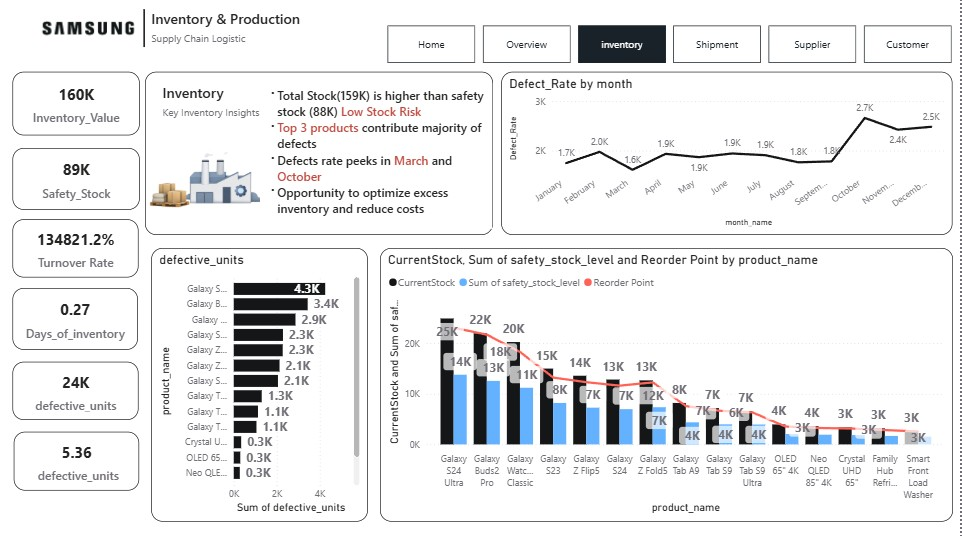

The page's visual inventory and layout, read from the dashboard file:
{"tool":"powerbi","page":{"name":"inventory","canvas":[1280,720],"ordinal":2},"visuals":[{"type":"shape","title":"Inventory & Production","box":[201.7,15.3,235.1,71],"z":0},{"type":"shape","box":[16.9,15.7,351.1,50.7],"z":1000},{"type":"image","box":[0,15.7,235.3,50.7],"z":2000},{"type":"card","fields":{"Values":["Cost_QTS_Suppliers.Turnover Rate"]},"box":[16.7,295,168.3,77.9],"z":3000},{"type":"card","fields":{"Values":["Cost_QTS_Suppliers.Days_of_inventory"]},"box":[16.7,386.8,167,82.1],"z":4000},{"type":"card","fields":{"Values":["Sum(fact_production.defective_units)"]},"box":[16.7,484.2,168.3,77.9],"z":5000},{"type":"card","fields":{"Values":["MeasuresTable.Safety_Stock"]},"box":[16.7,200.3,169.7,82.1],"z":6000},{"type":"card","fields":{"Values":["MeasuresTable.Inventory_Value"]},"box":[16.7,98.8,169.7,84.9],"z":7000},{"type":"card","fields":{"Values":["Avg(fact_production.defective_units)"]},"box":[18.3,578.4,167.5,78.3],"z":8000},{"type":"barChart","title":" defective_units ","fields":{"Y":["Sum(fact_production.defective_units)"],"Category":["dim_product.product_name"]},"box":[201.2,333.8,288.8,365],"z":9000},{"type":"lineClusteredColumnComboChart","fields":{"Category":["dim_product.product_name"],"Y":["MeasuresTable.Inventory_Value","Sum(fact_inventory.safety_stock_level)"],"Y2":["Cost_QTS_Suppliers.Reorder Point"]},"box":[506.2,333.8,763.8,365],"z":10000},{"type":"lineChart","title":"Defect_Rate by month","fields":{"Category":["dim_date.month_name"],"Y":["MeasuresTable.Defect_Rate"]},"box":[668.9,99,601.6,217.7],"z":11000},{"type":"shape","box":[192.5,98.8,463.8,217.5],"z":12000},{"type":"shape","title":"Inventory","box":[216.2,113.8,152.5,55],"z":13000},{"type":"image","box":[183.9,87.8,172.9,300.5],"z":14000},{"type":"pageNavigator","box":[517.3,36.7,753.3,50.1],"z":15000},{"type":"textbox","box":[346.1,113.7,309.4,194.4],"z":16000}]}

Visuals, with their boxes in screenshot pixels (x1, y1, x2, y2), scaled from the page's 1280x720 canvas onto the 962x536 screenshot:
"Inventory & Production" shape: box=[152, 11, 328, 64]
shape: box=[13, 12, 277, 49]
image: box=[0, 12, 177, 49]
card - Cost_QTS_Suppliers.Turnover Rate: box=[13, 220, 139, 278]
card - Cost_QTS_Suppliers.Days_of_inventory: box=[13, 288, 138, 349]
card - Sum(fact_production.defective_units): box=[13, 360, 139, 418]
card - MeasuresTable.Safety_Stock: box=[13, 149, 140, 210]
card - MeasuresTable.Inventory_Value: box=[13, 74, 140, 137]
card - Avg(fact_production.defective_units): box=[14, 431, 140, 489]
" defective_units " barChart: box=[151, 248, 368, 520]
lineClusteredColumnComboChart - dim_product.product_name x MeasuresTable.Inventory_Value: box=[380, 248, 954, 520]
"Defect_Rate by month" lineChart: box=[503, 74, 955, 236]
shape: box=[145, 74, 493, 235]
"Inventory" shape: box=[162, 85, 277, 126]
image: box=[138, 65, 268, 289]
pageNavigator: box=[389, 27, 955, 65]
textbox: box=[260, 85, 493, 229]
